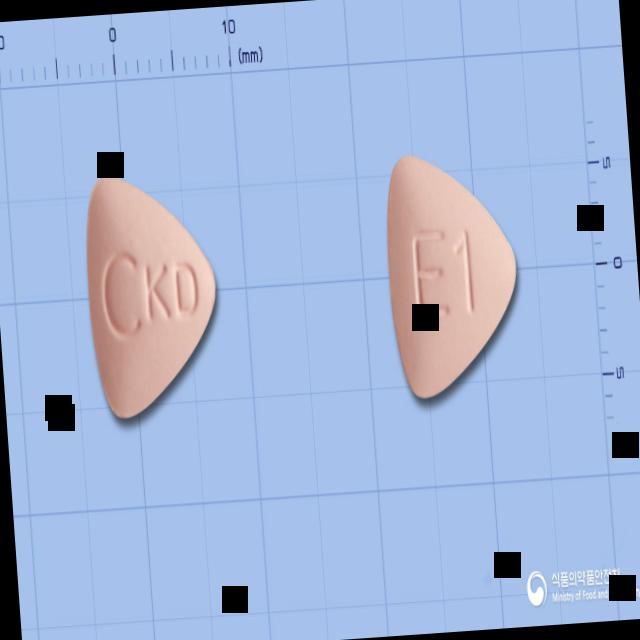Ciproc: (381, 145, 527, 402), (80, 168, 226, 420)
